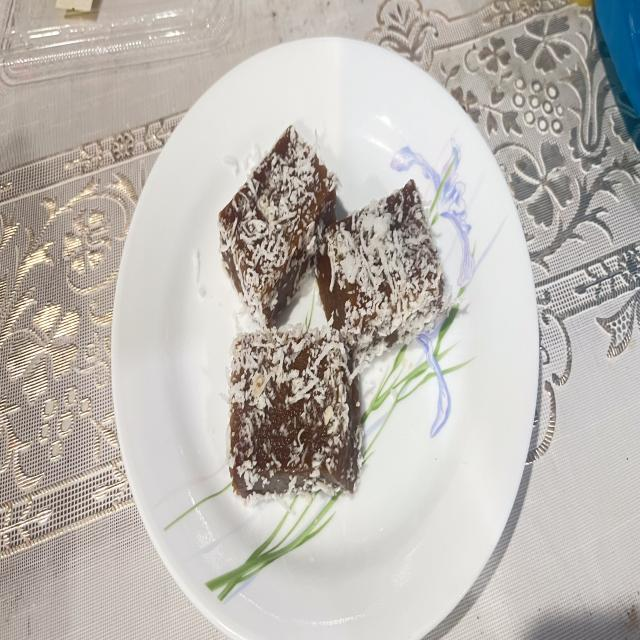kaswi: (316, 180, 448, 373), (219, 127, 338, 324), (229, 324, 361, 498)
